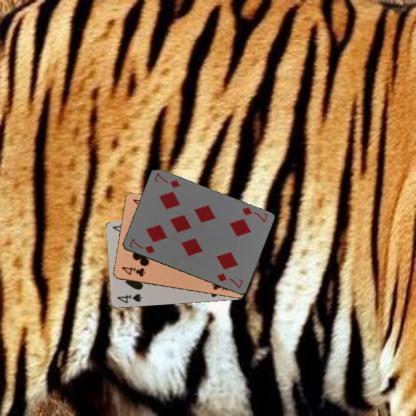4c: (119, 264, 147, 278)
4s: (114, 291, 143, 305)
7d: (239, 204, 269, 224), (126, 236, 156, 255)
